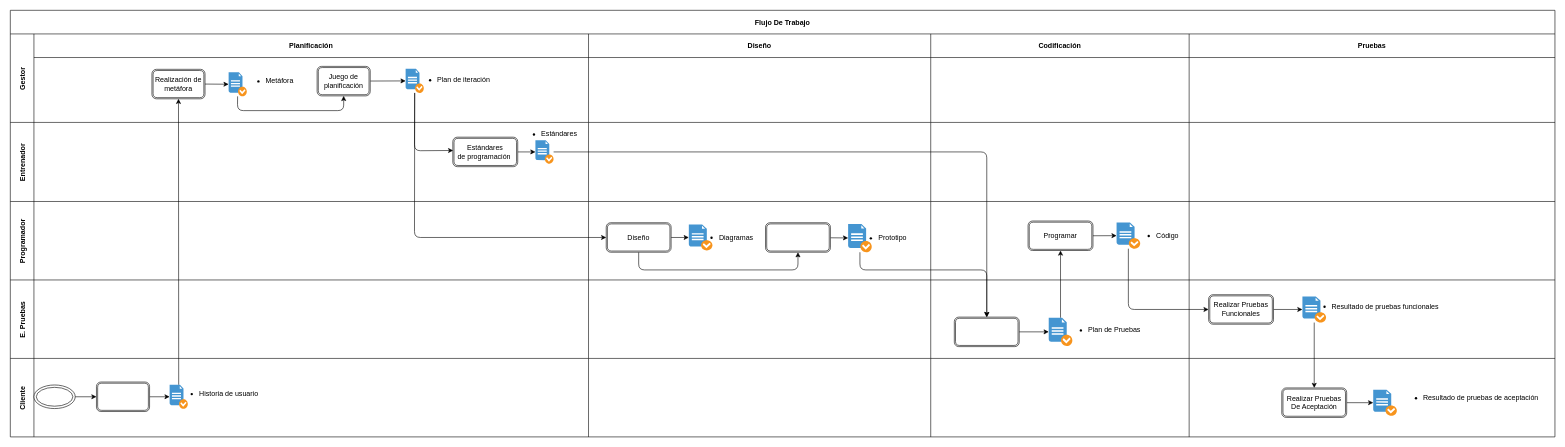
The diagram is 1565 pixels wide and 447 high, and some of its shapes have lost their labels. The shapes that lost their labels are listed below. From the top down, each one's centre as x and y in pixels, then its label:
pixel 797 237: Generar Prototipo
pixel 986 332: Escritura de Plan Pruebas
pixel 54 396: Inicio
pixel 123 396: Establecimiento de requisitos
